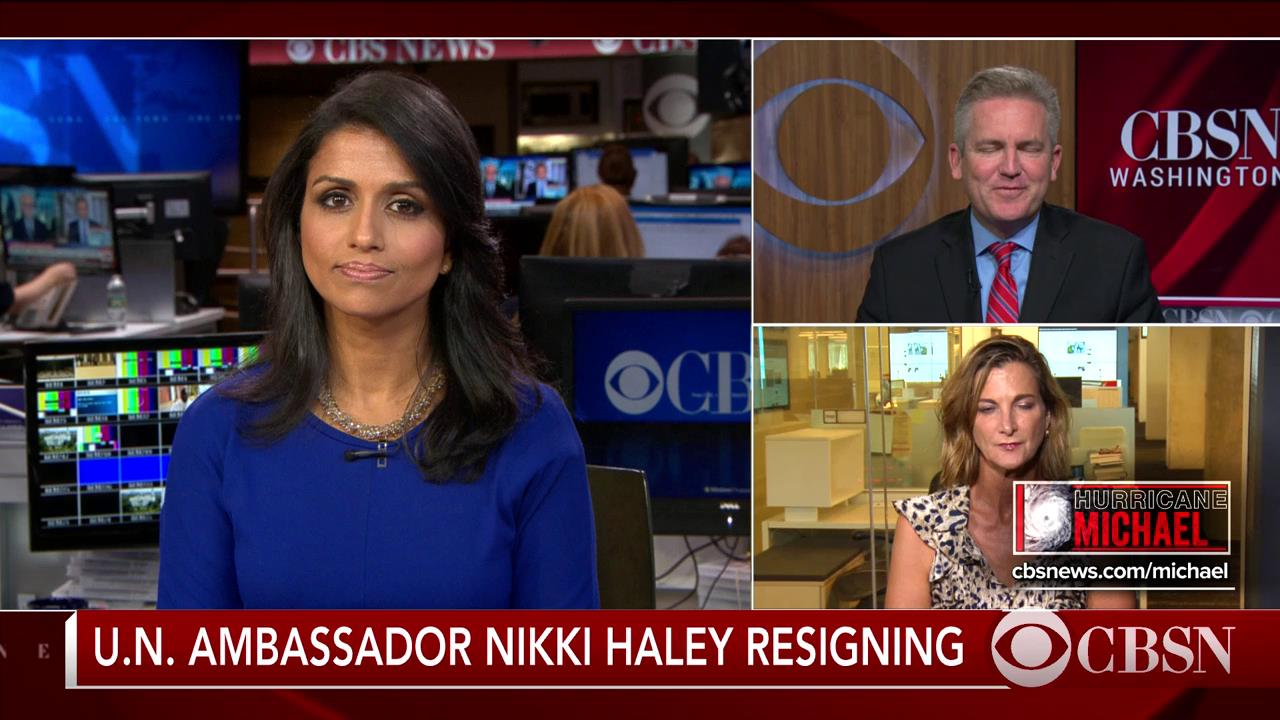CB: (665, 347, 750, 416)
CBS NEWS: (322, 39, 495, 63)
CBSN: (1073, 623, 1240, 678), (1119, 107, 1278, 162)
E: (34, 640, 55, 663)
HURRICANE: (1075, 486, 1229, 510)
MICHAEL: (1073, 510, 1209, 547)
U.N. AMBASSADOR NIKKI HALEY RESIGNING: (88, 621, 967, 668)
WASHINGTON: (1108, 164, 1280, 189)
cbsnews.com/michael: (1010, 560, 1231, 581)
